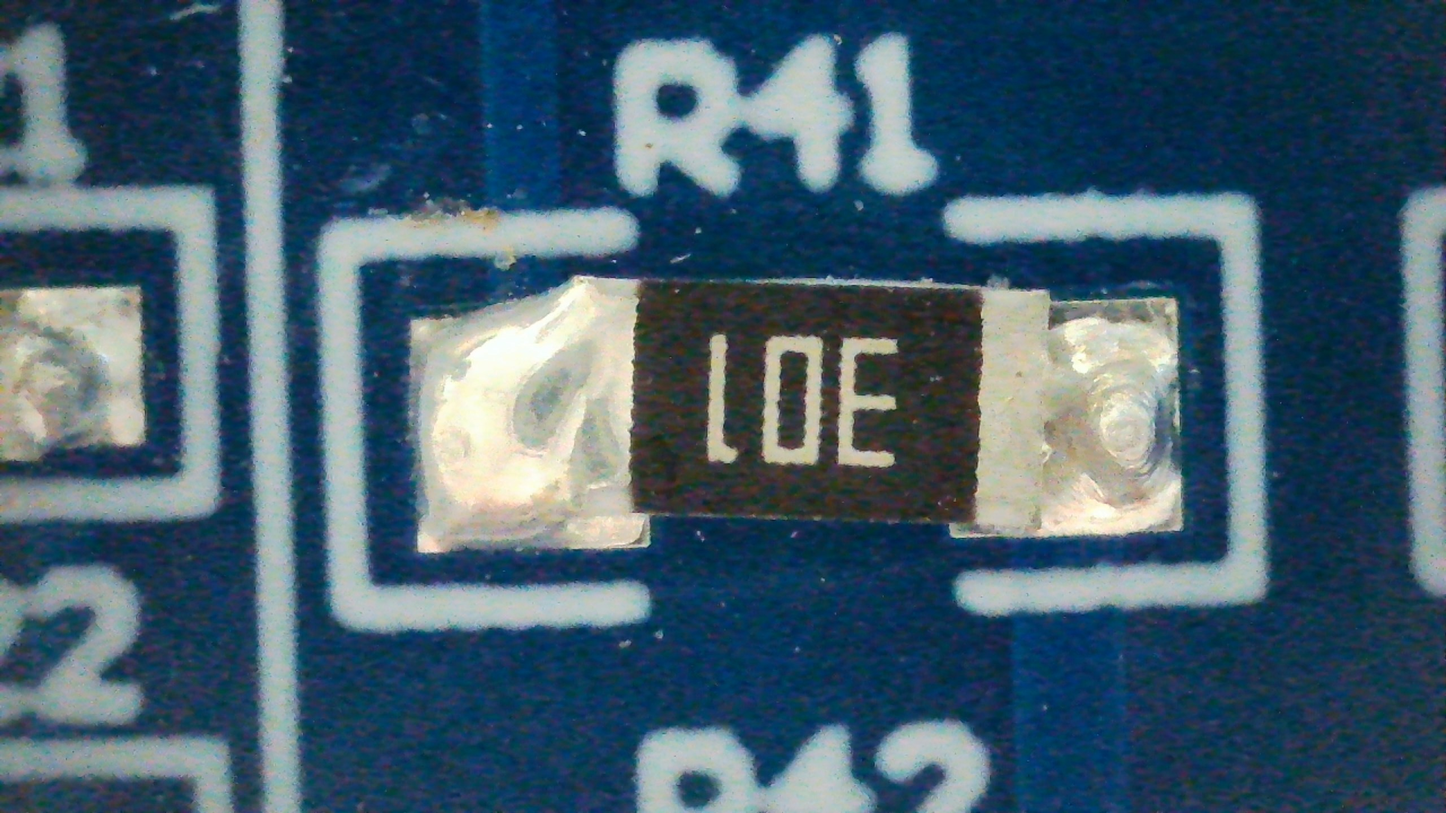NG: (414, 279, 1183, 552)
